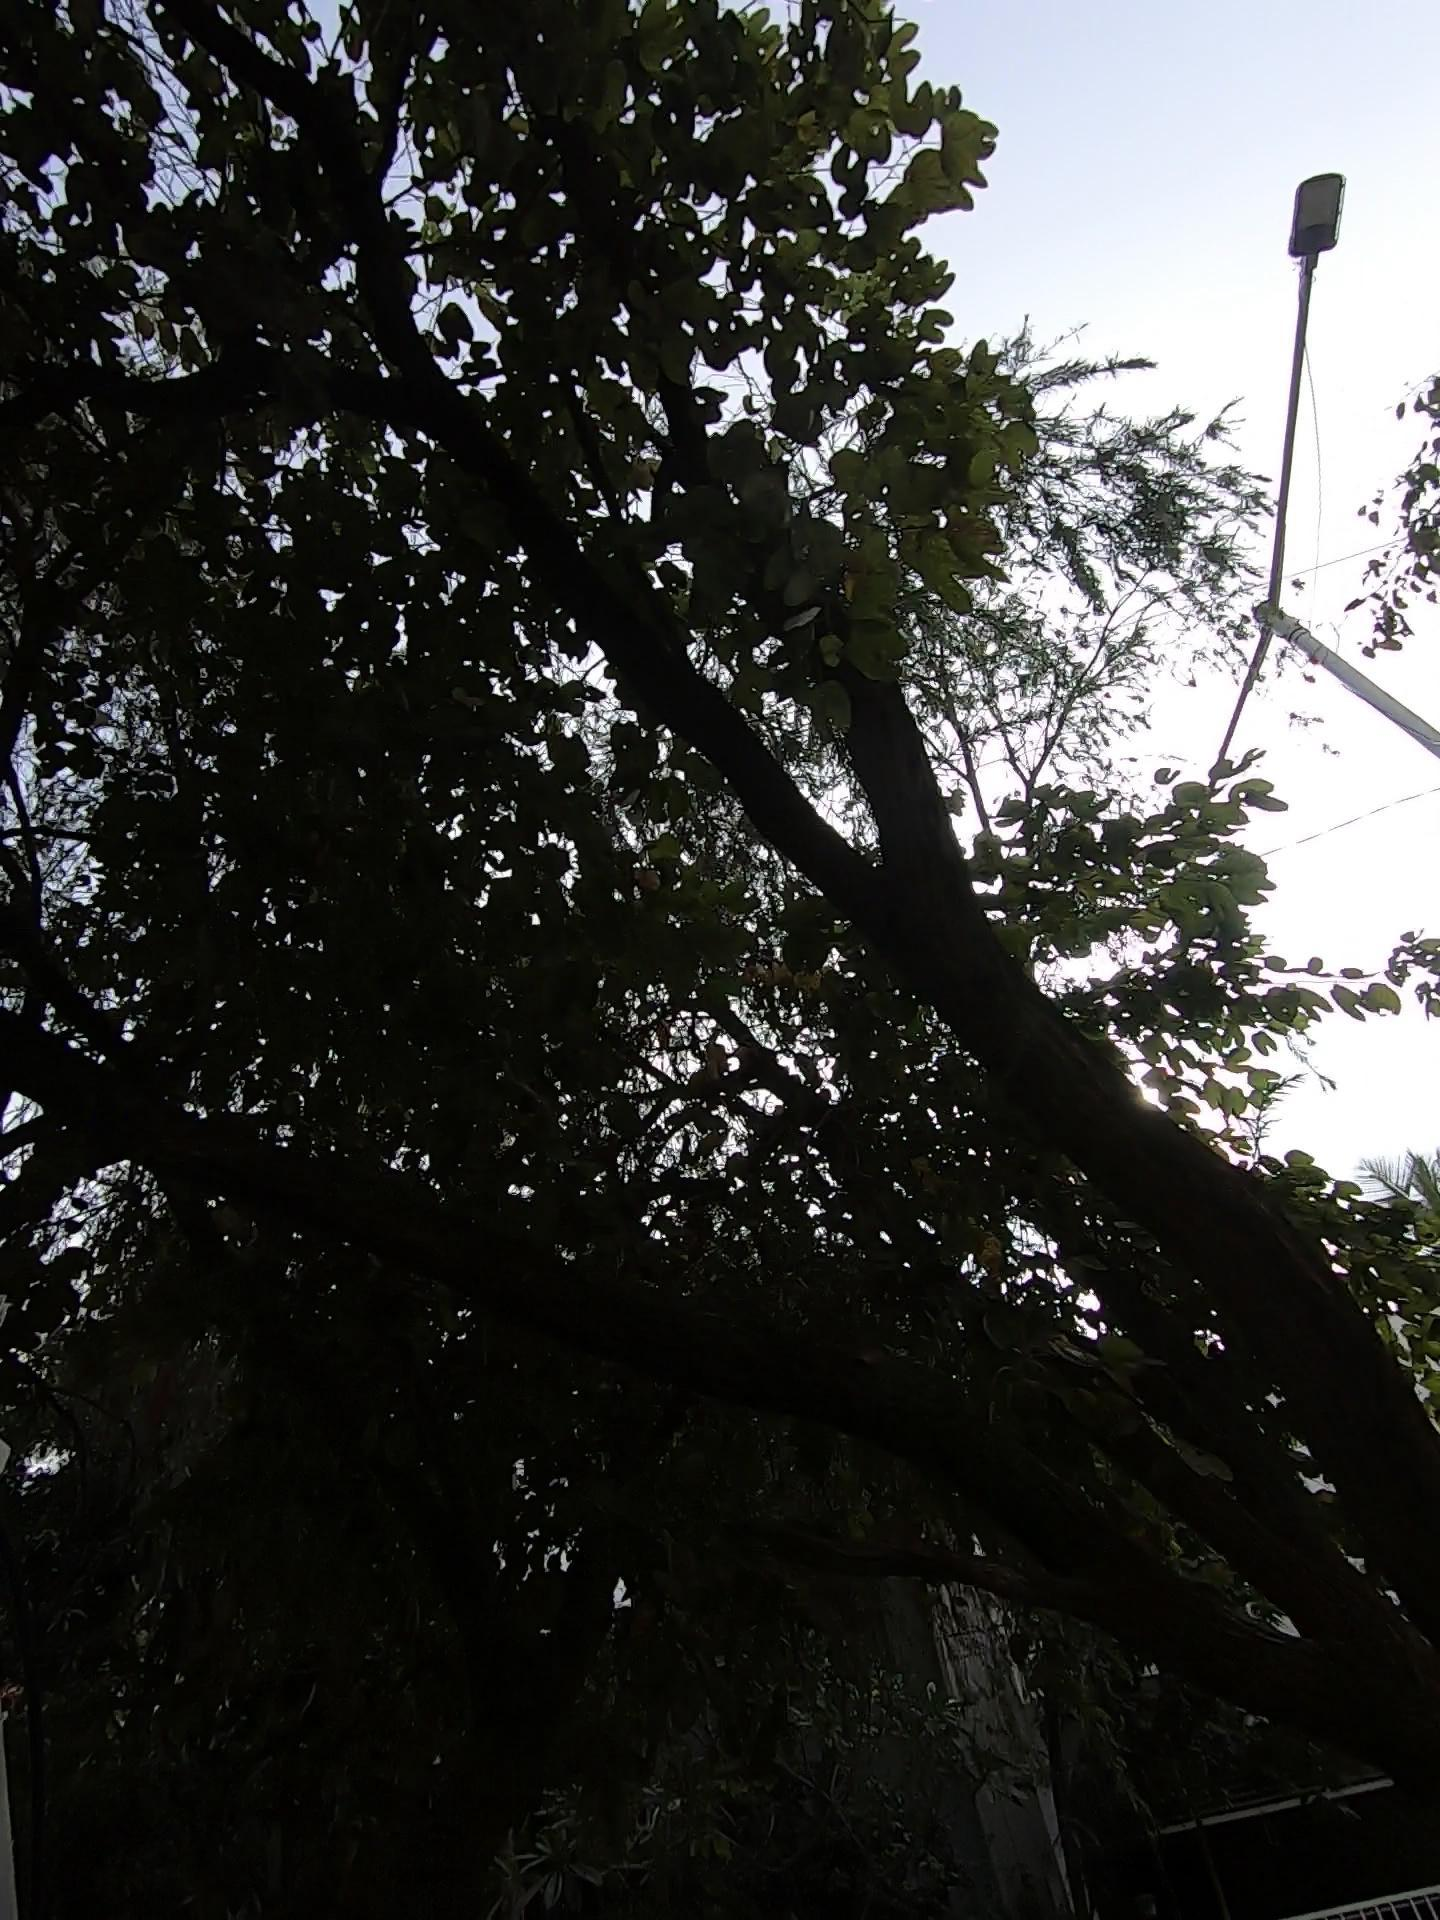off: (1199, 71, 1367, 868)
